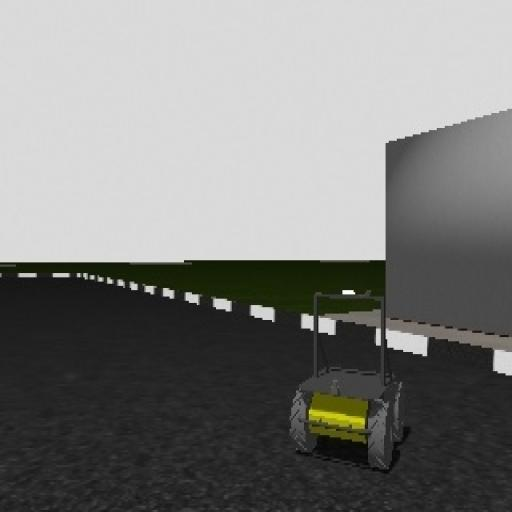huskya200: (278, 273, 406, 477)
